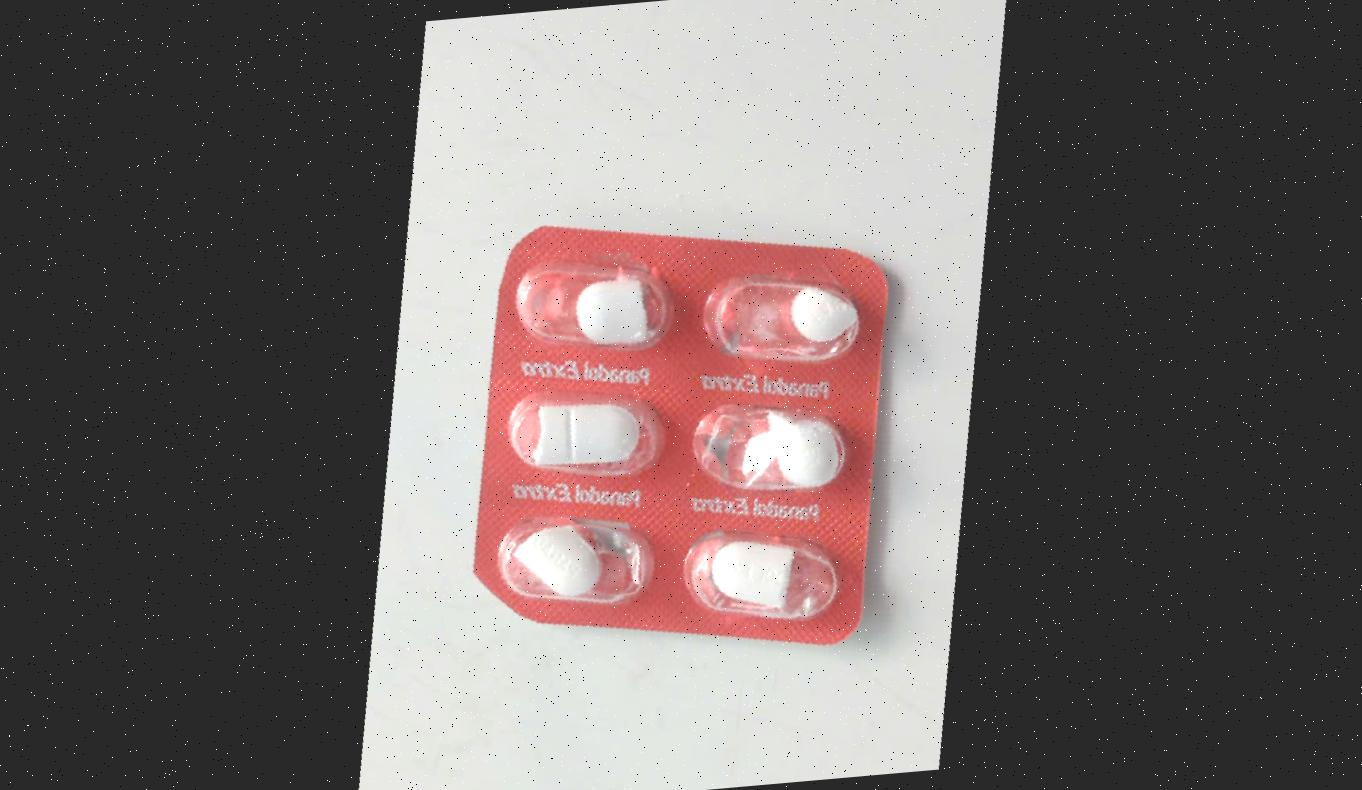Partial: (692, 269, 871, 374), (490, 383, 669, 488), (673, 394, 851, 499), (505, 250, 683, 355), (475, 512, 653, 617), (663, 525, 841, 629)
